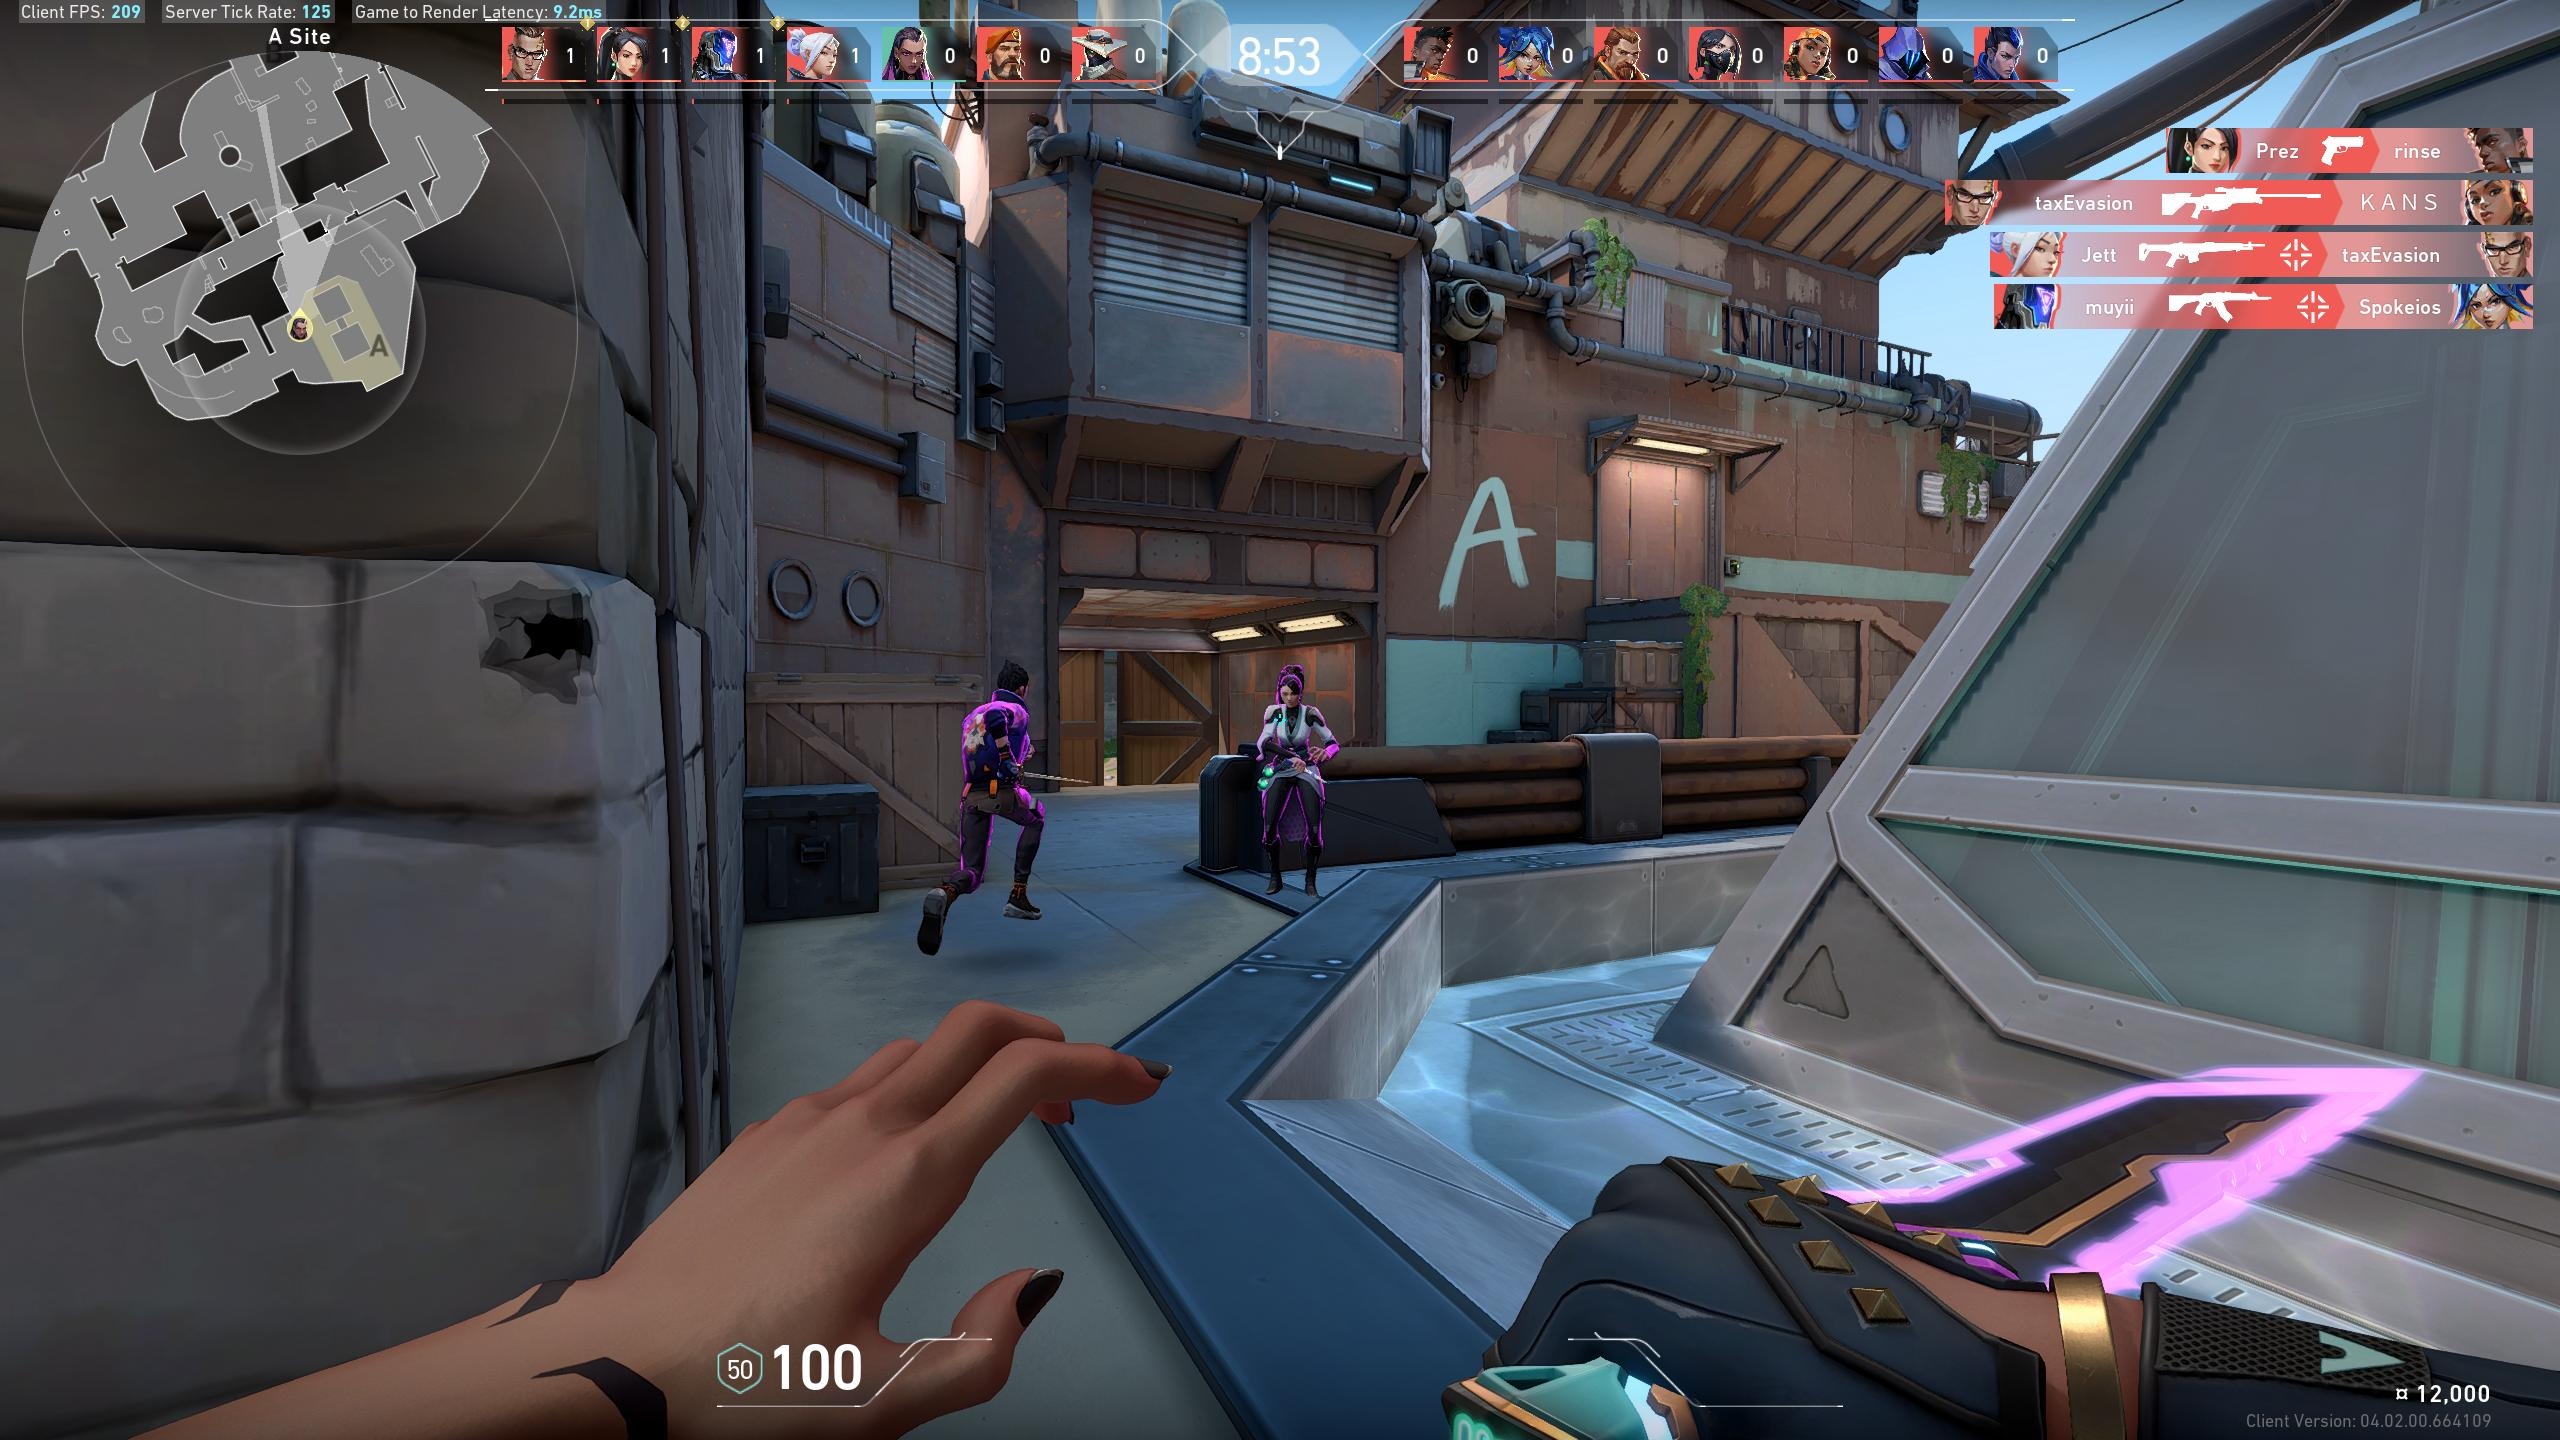enemyBody: (969, 709, 1023, 777), (1271, 710, 1310, 763)
enemyHead: (1002, 670, 1023, 698), (1282, 679, 1299, 707)
